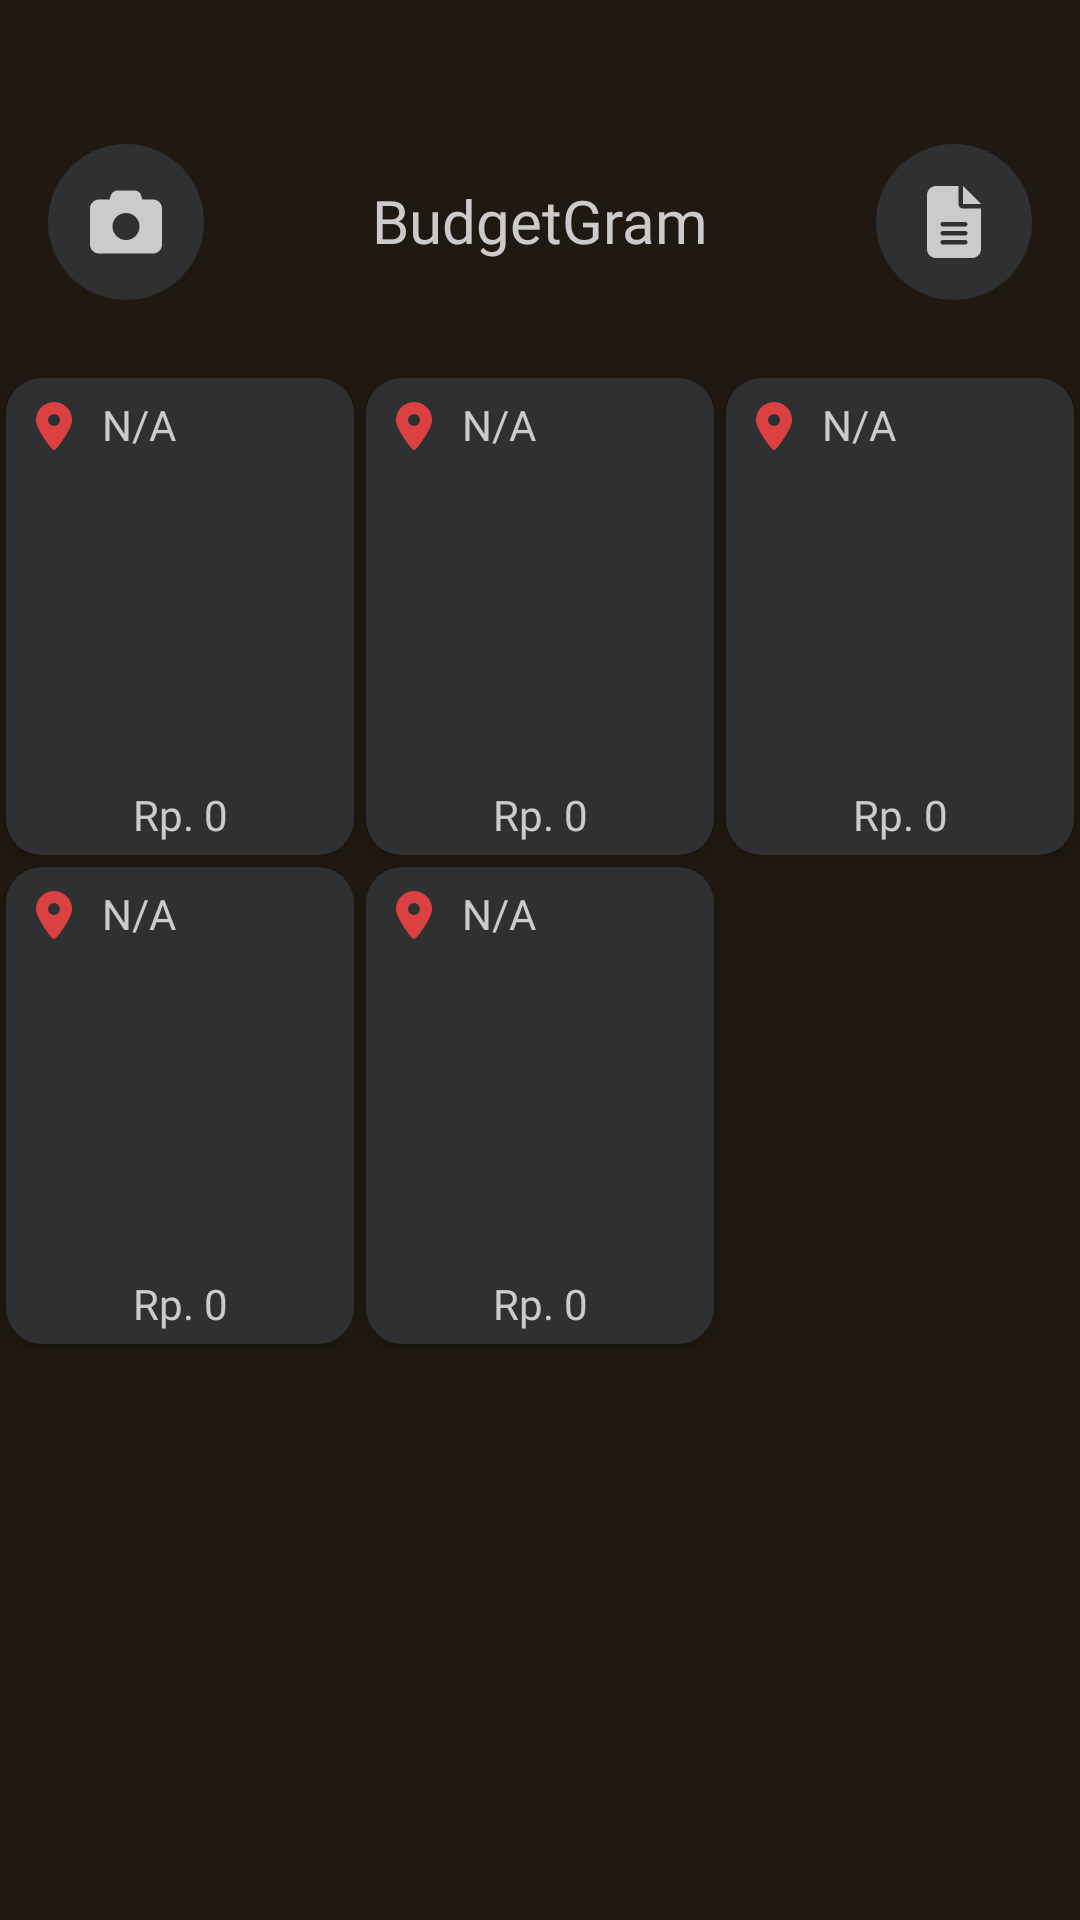

Icon bounding boxes for this 1080 × 1920 phone screenshot, format box=[x1, y1, x2, y2]:
camera: box=[48, 144, 204, 300]
file lines: box=[876, 144, 1032, 300]
location dot: box=[36, 402, 72, 450], box=[396, 402, 432, 450], box=[756, 402, 792, 450], box=[36, 891, 72, 939], box=[396, 891, 432, 939]
